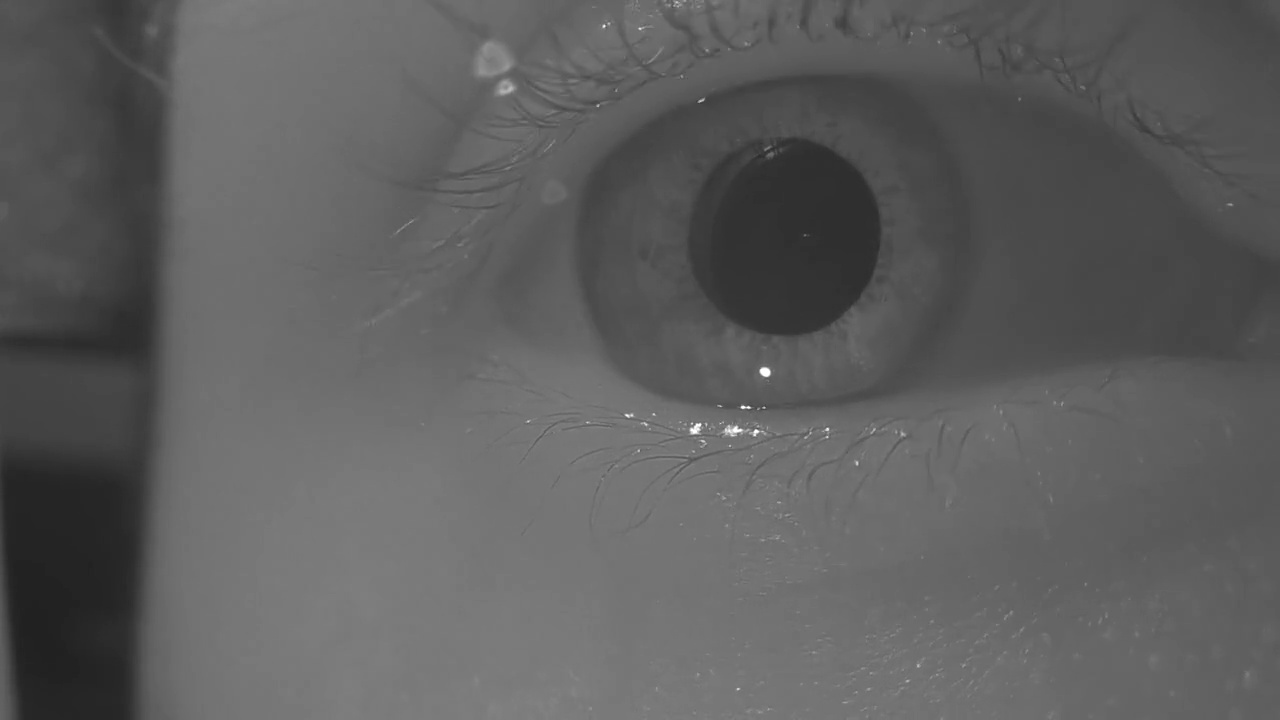pupil: (685, 138, 884, 336)
